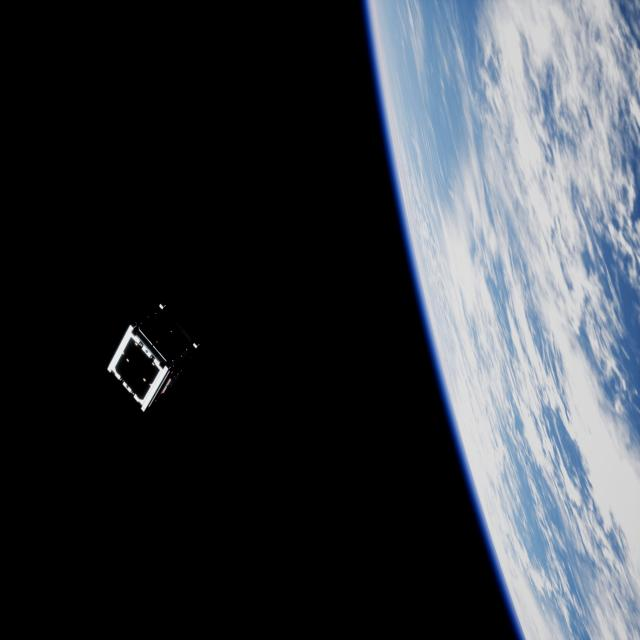satellite: (102, 298, 204, 416)
